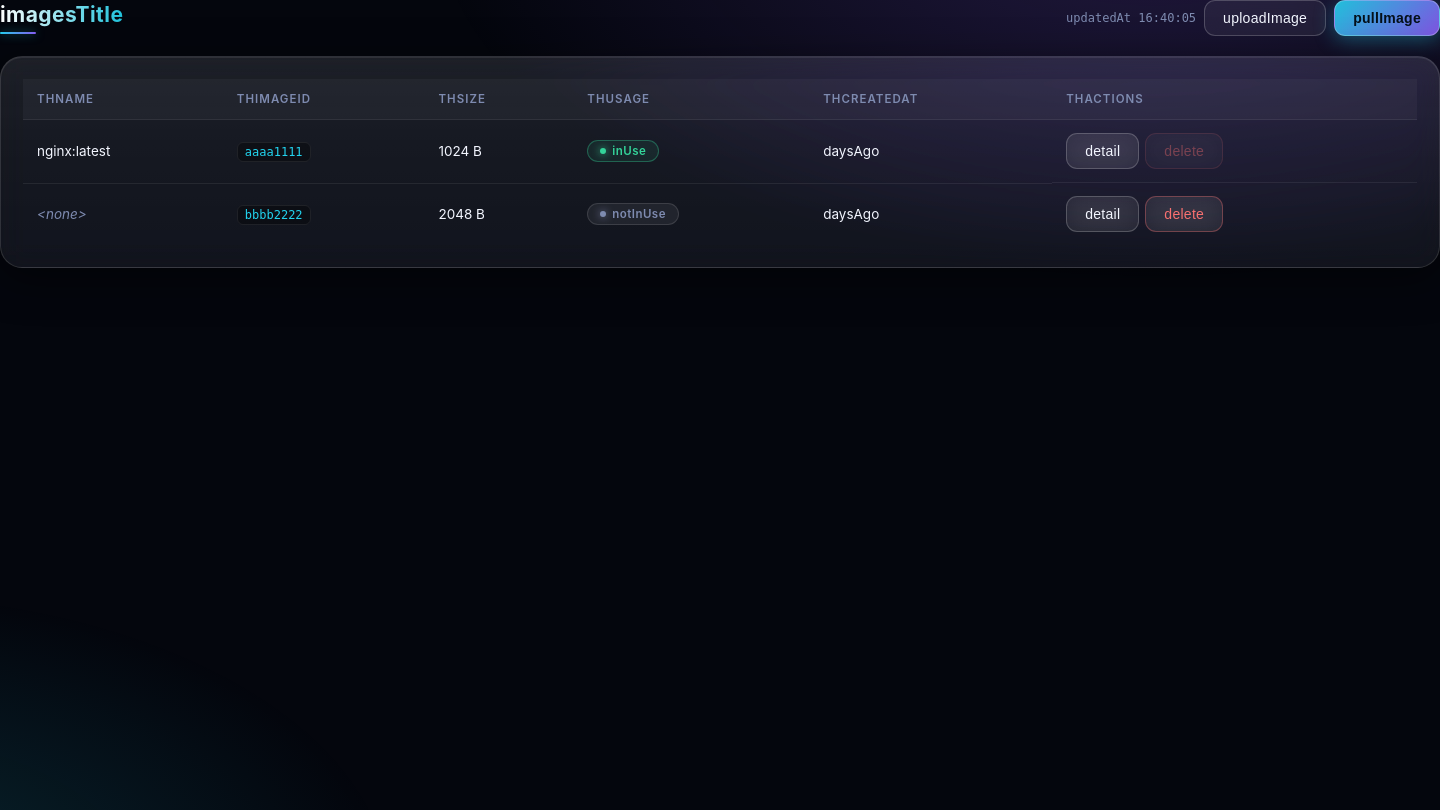
Test: Images › opens the detail modal with full image metadata
Click the button "detail" in the row of "nginx:latest": (1103, 151) [1066,133,1139,169]
(page scrolled)
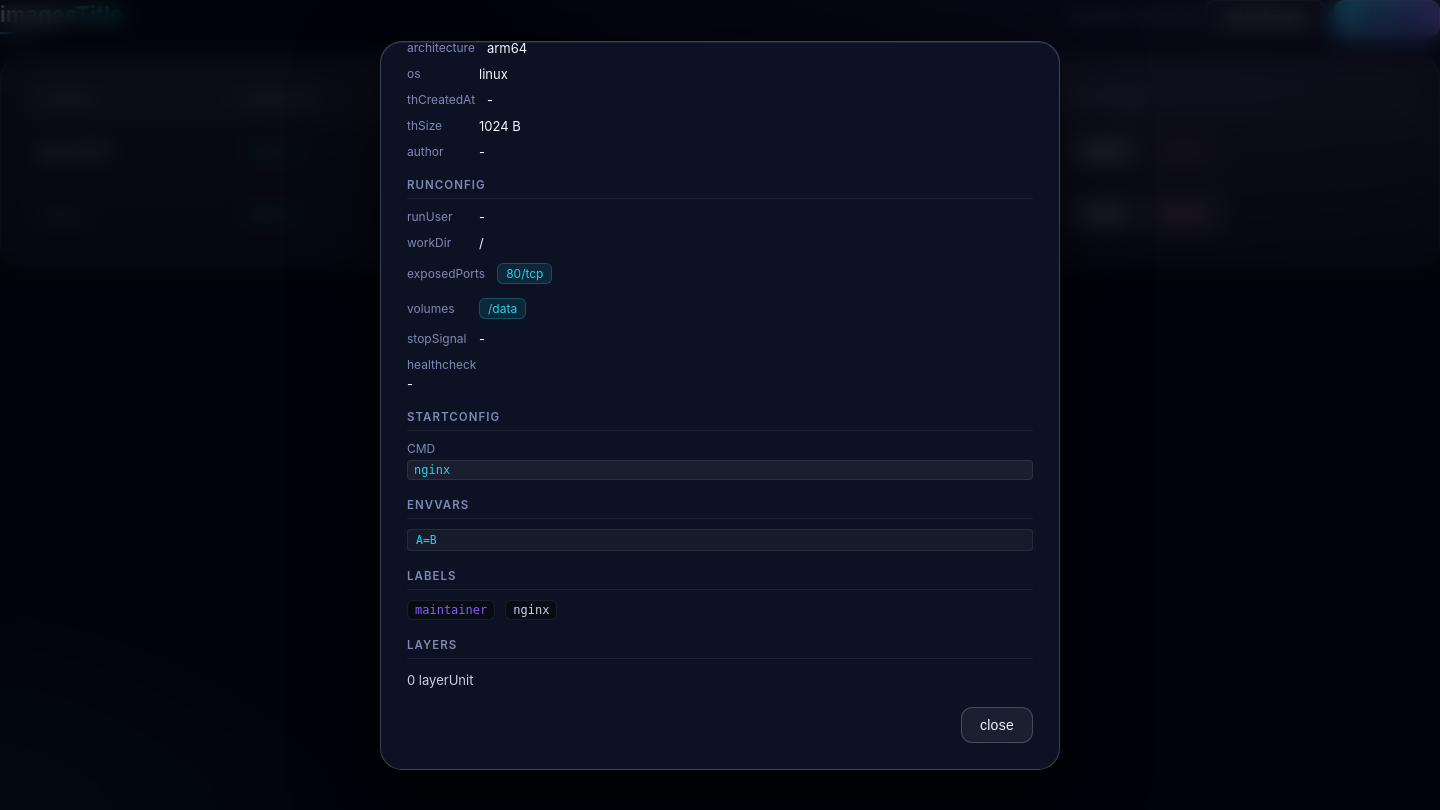
expect the element with class "detail-modal" is shown: met, box [380,40,1060,770]
expect the text "arm64" is shown: met, box [487,40,527,56]
expect the text "80/tcp" is shown: met, box [497,262,552,284]
